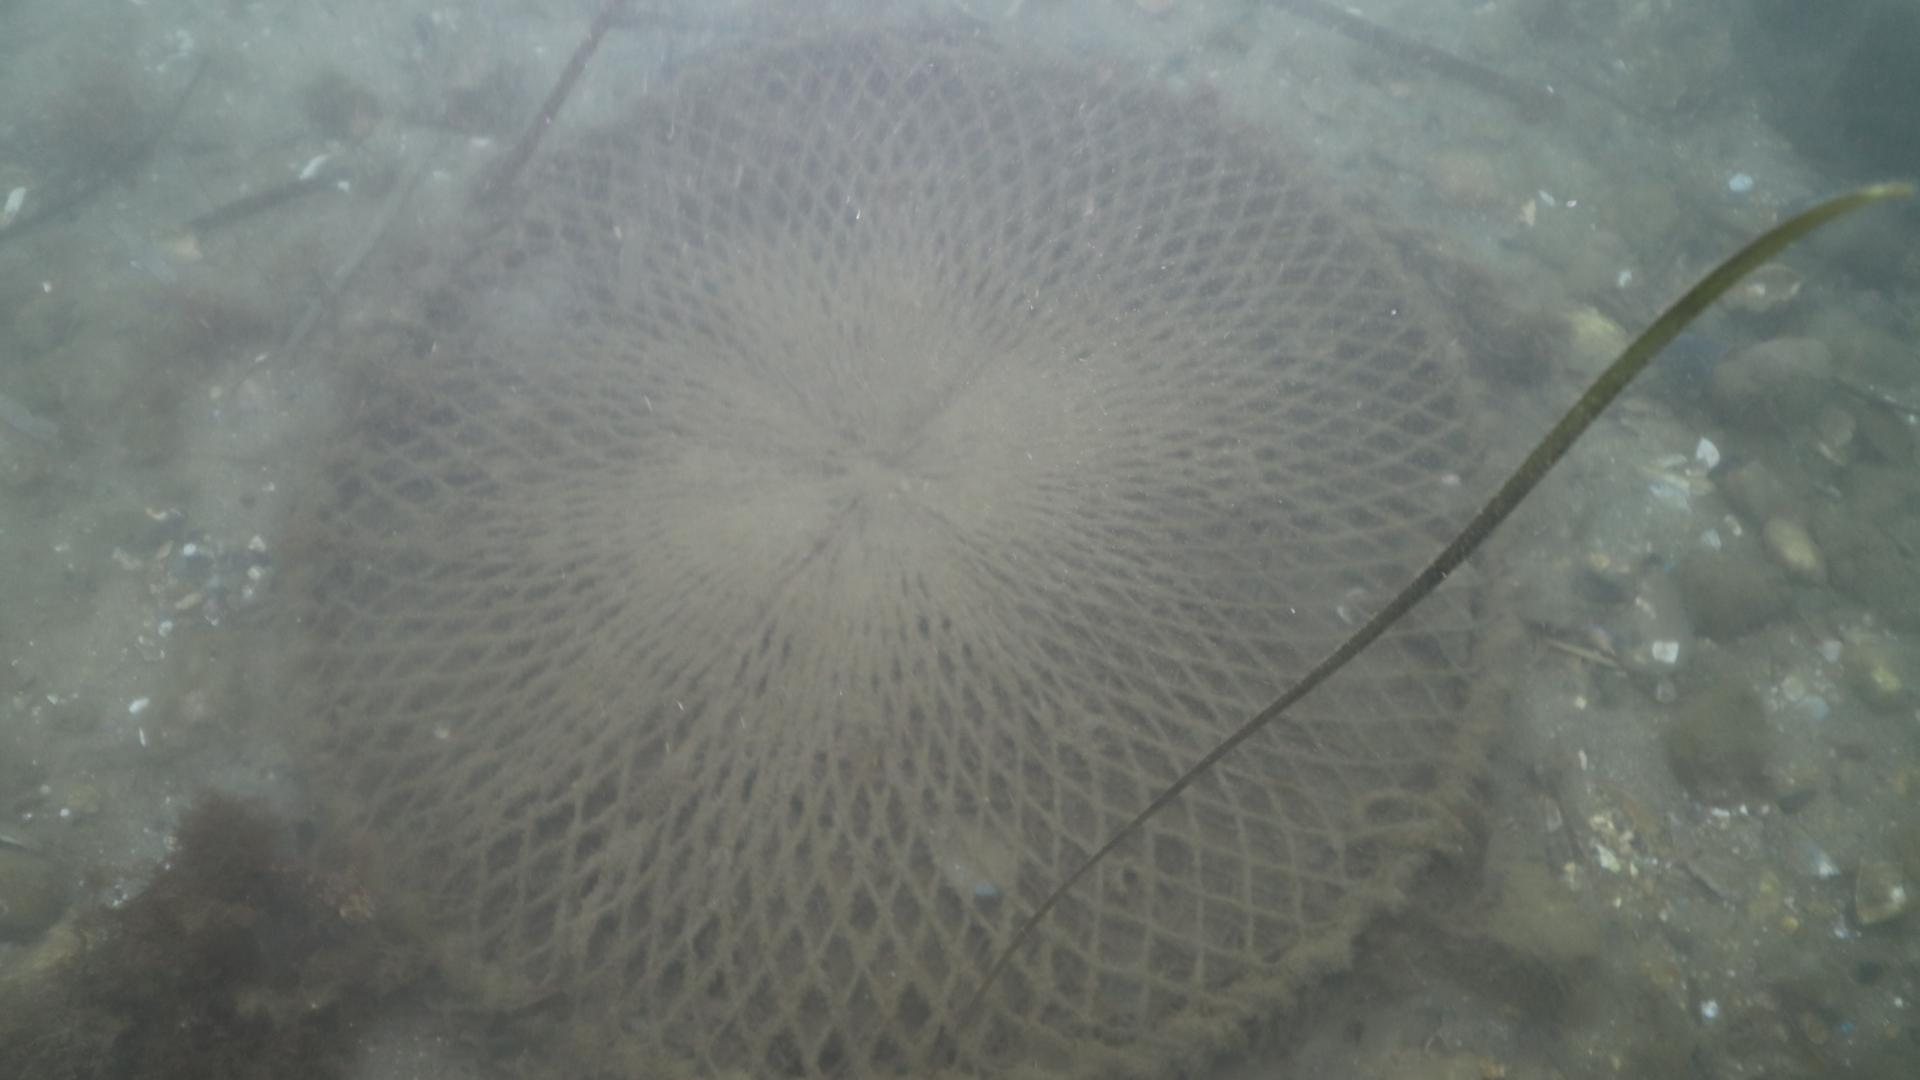circular fish trap: (276, 33, 1523, 1080)
